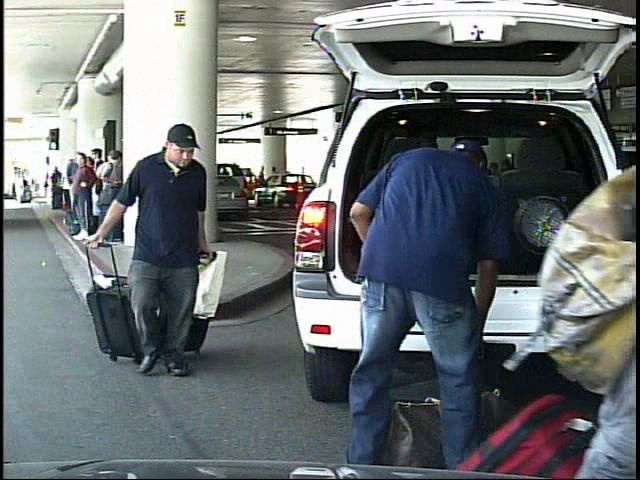person: (314, 115, 500, 476), (87, 118, 228, 392), (14, 172, 25, 202), (257, 163, 268, 178)
